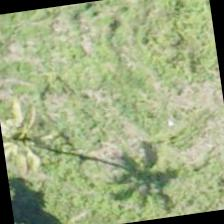Kelapa_Sawit: (0, 94, 73, 193)
